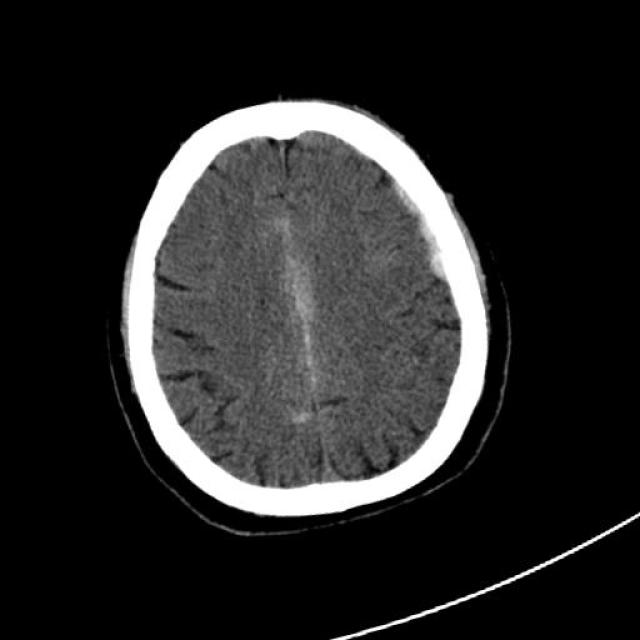Subarachnoid: (371, 166, 474, 298), (279, 392, 319, 438)
Subdural: (256, 207, 340, 407)
